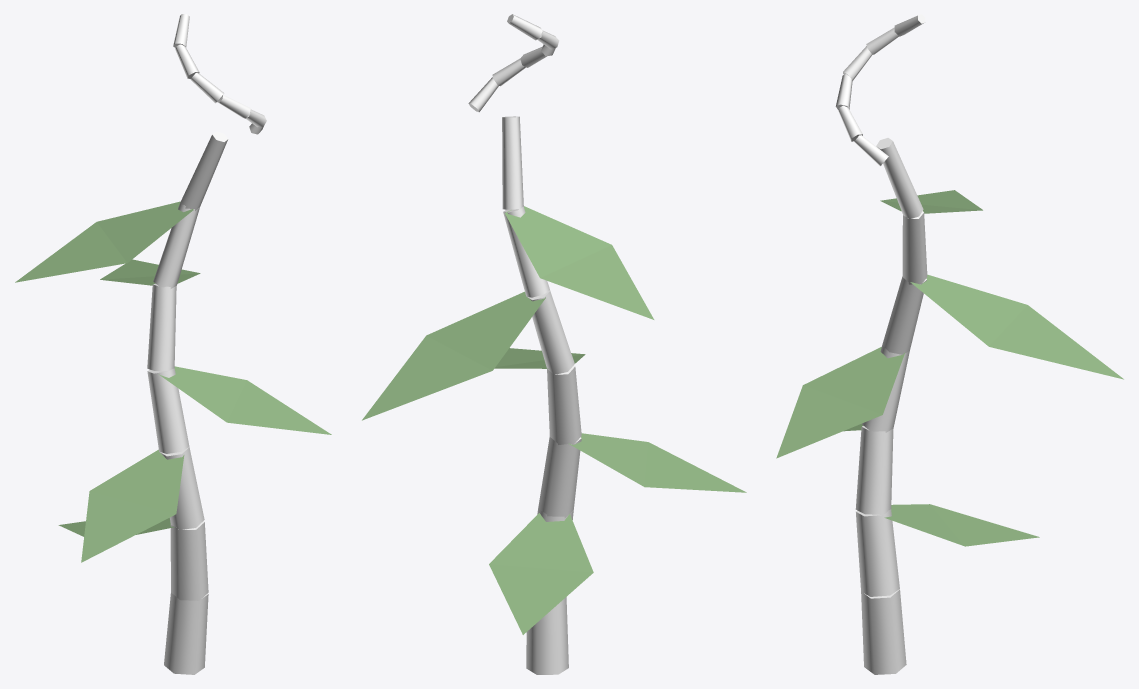
Rendered from beanstalk_small.glb.
3 renders of one model, left to right at view 1: azimuth 30°, elevation 25°; view 2: azimuth 150°, elevation 25°; view 3: azimuth 270°, elevation 25°, orthographic. The views are drawn at different scales.
Visible parts, largest first — view 1: Beanstalk_small; view 2: Beanstalk_small; view 3: Beanstalk_small.
Boxes of the visible parts, box(x1,y1,x2,y2) form: Beanstalk_small: box(15, 14, 331, 674); Beanstalk_small: box(362, 14, 746, 674); Beanstalk_small: box(776, 14, 1123, 674).
Size of the model in its own units: 0.8206 by 2.05 by 0.9822.
